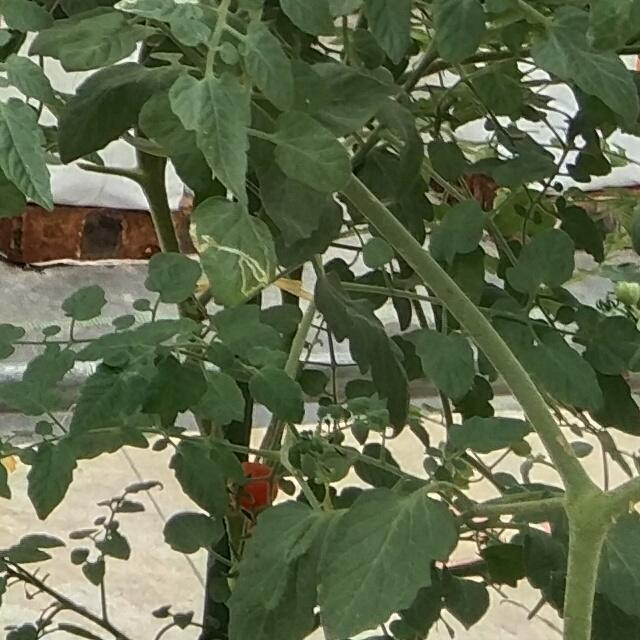Healthy: (315, 484, 463, 640), (311, 269, 412, 440), (224, 496, 333, 640), (528, 0, 640, 125), (165, 69, 255, 209), (518, 336, 609, 416), (272, 108, 354, 195), (0, 96, 57, 214), (237, 16, 298, 115), (58, 9, 138, 76), (504, 225, 576, 295), (415, 325, 477, 401), (25, 438, 79, 522), (358, 0, 413, 68), (446, 414, 535, 455), (428, 198, 484, 262), (248, 364, 305, 425), (1, 47, 57, 105), (162, 510, 225, 553)
Leaf_Miner: (189, 196, 277, 310)
